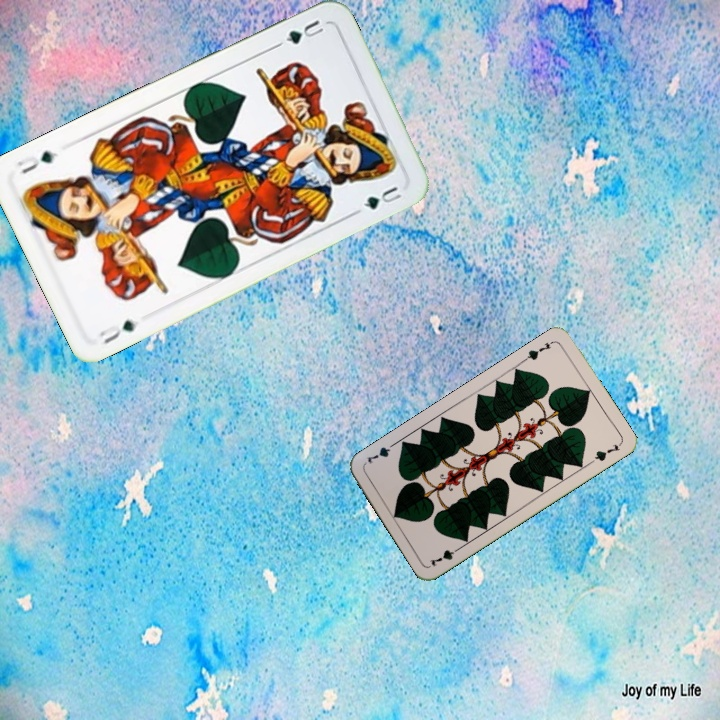G7: (426, 542, 464, 569), (520, 337, 556, 364)
GU: (272, 15, 327, 50), (95, 315, 137, 347)
